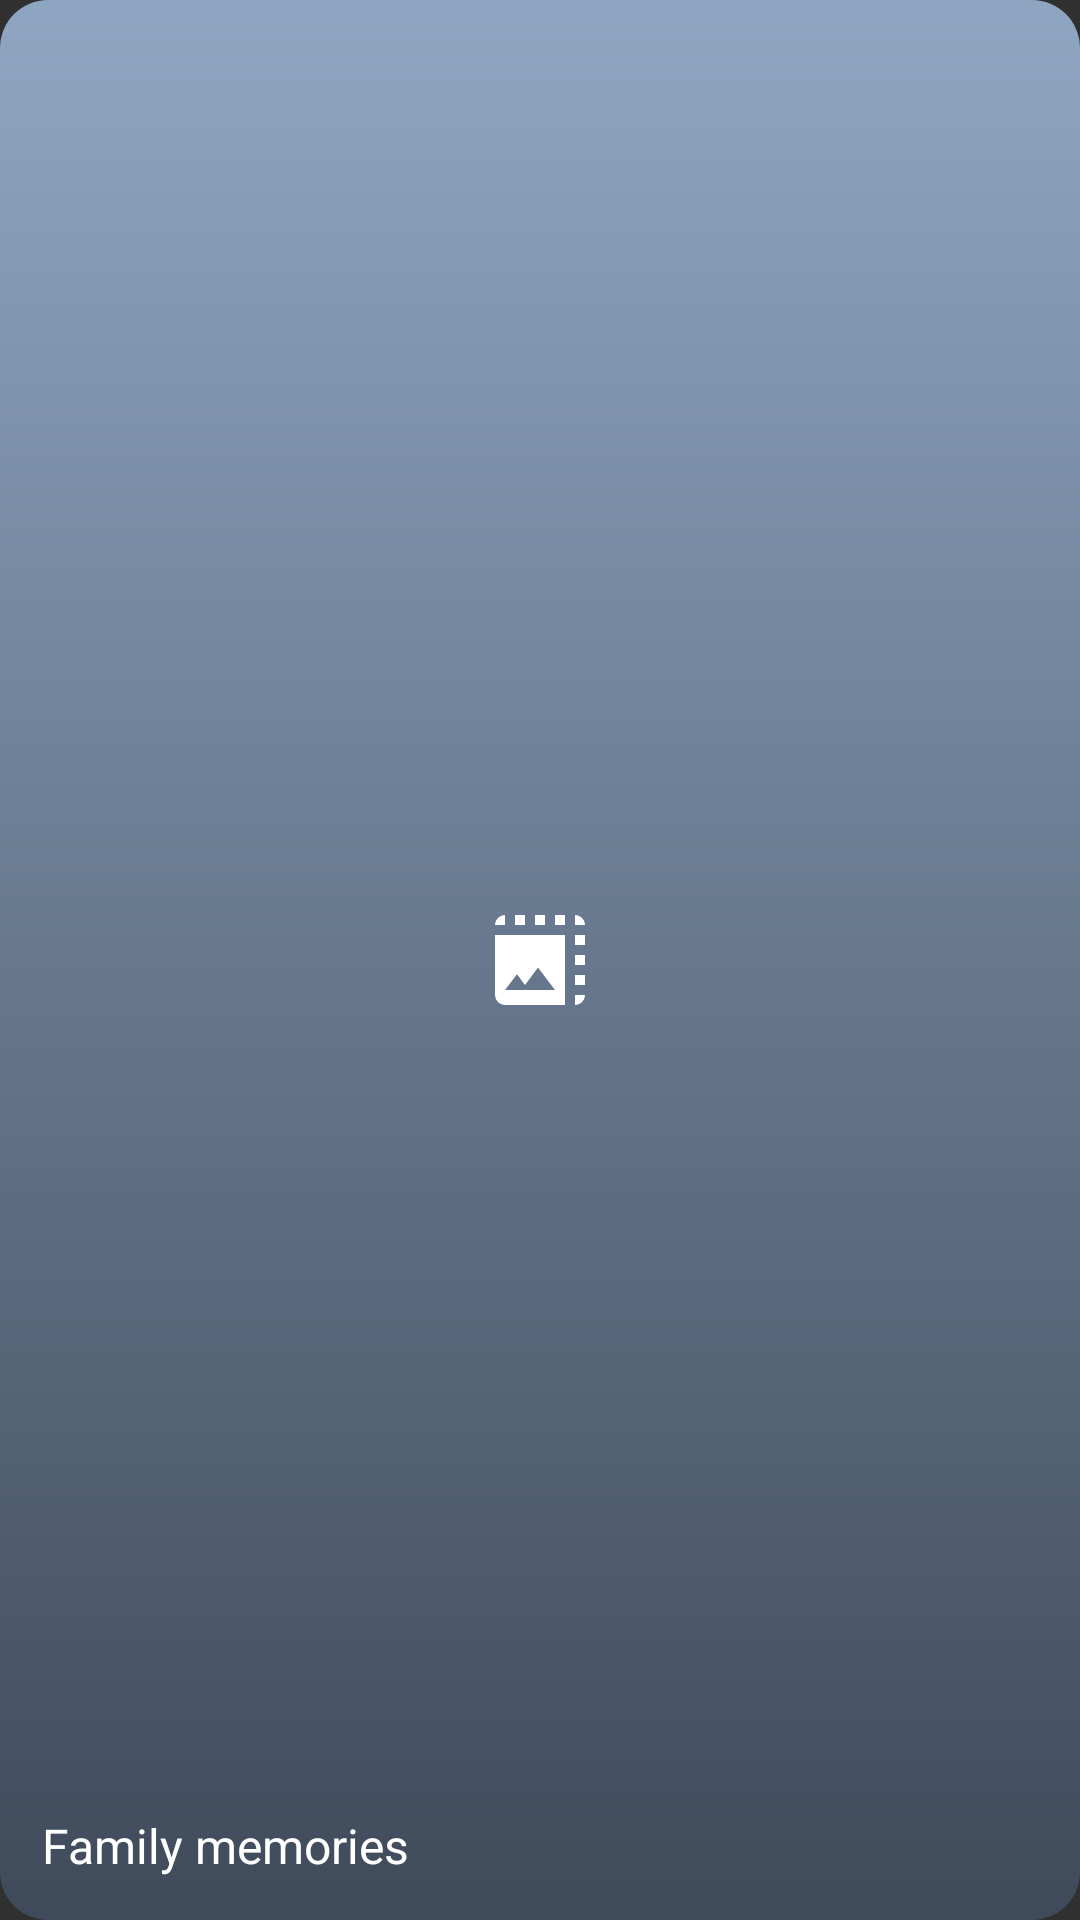

Where to tap for icons on this 1080 x 1920 app screen, as [x,y]:
photos: [540,960]
